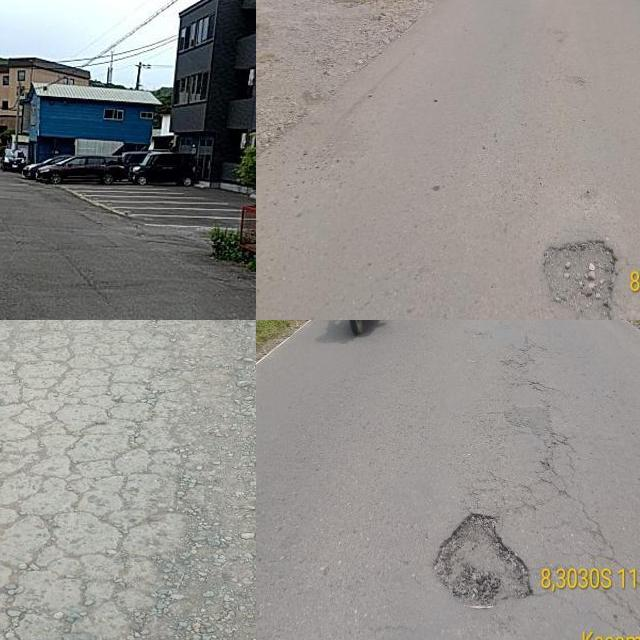Lubang: (436, 516, 533, 603), (539, 239, 630, 320)
Retak Buaya: (0, 324, 188, 640)
